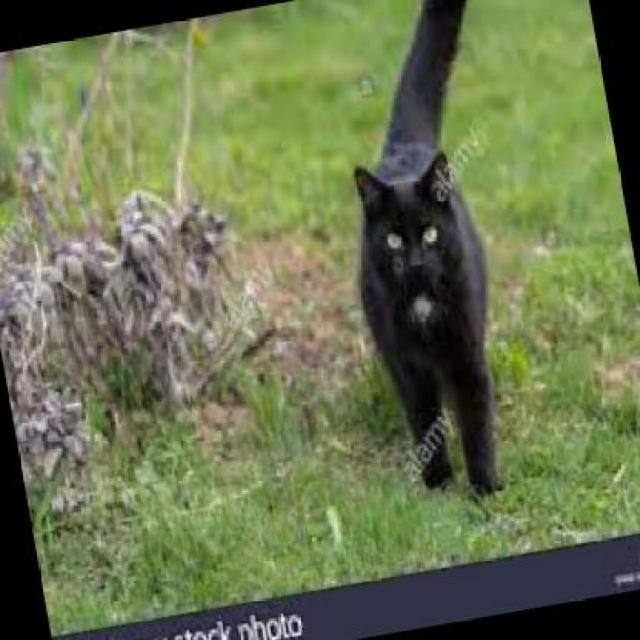animals: (300, 0, 583, 534)
